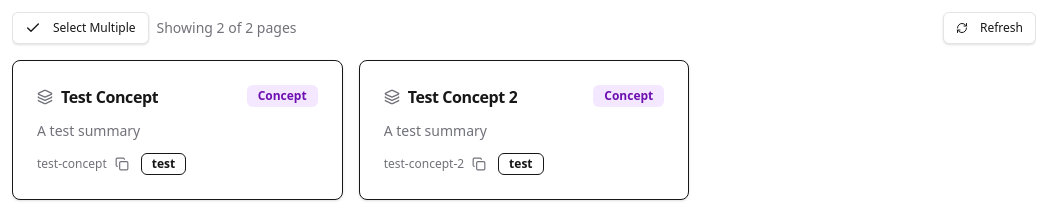
it: WikiPageList › disables Delete button when no items selected
Check: the heading "Test Concept" is shown, box x1=61 y1=85 x2=158 y2=109
Step 1. Click the button "Select Multiple" → (80, 28), box x1=12 y1=12 x2=148 y2=44
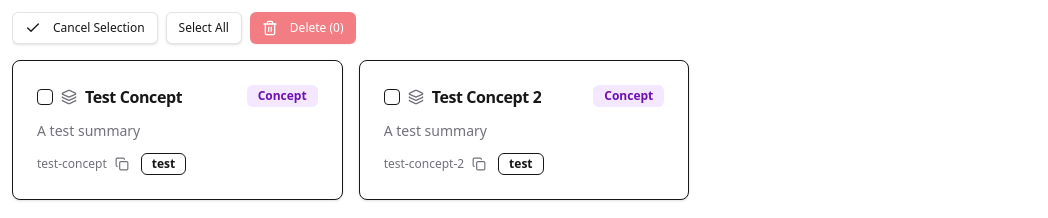
Check: the button "Delete (0)" is disabled, box x1=250 y1=12 x2=356 y2=44
